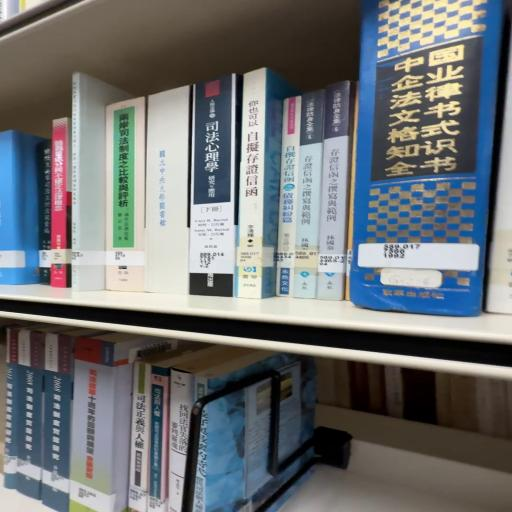backward: (142, 89, 188, 299)
book: (190, 76, 238, 302)
